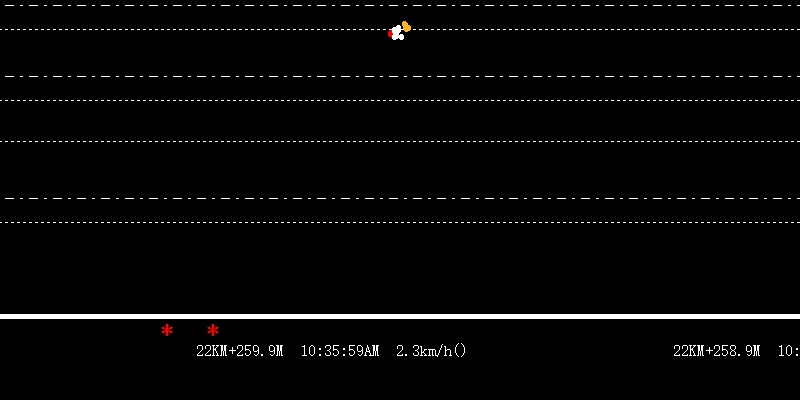face_2: (390, 20, 412, 45)
star: (157, 321, 177, 340), (205, 322, 223, 338)
